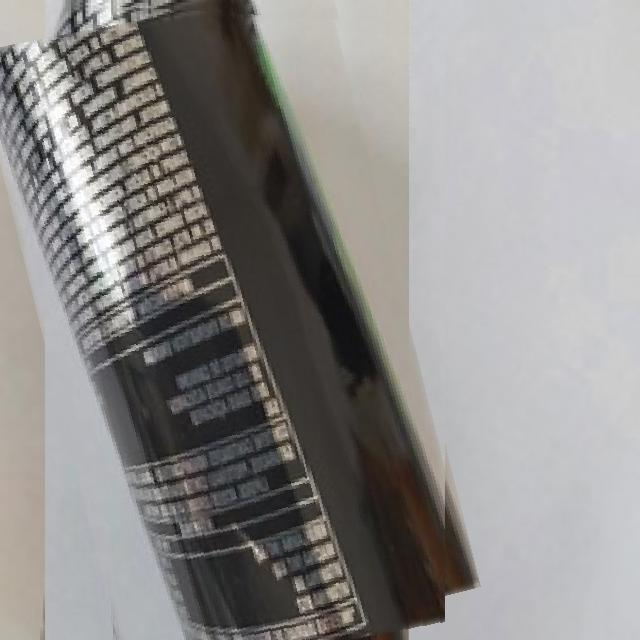recyclable: (9, 0, 445, 640)
